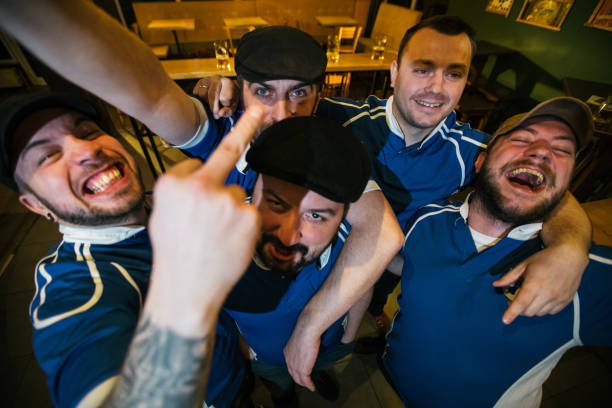insulting_gesture: (146, 103, 262, 312)
